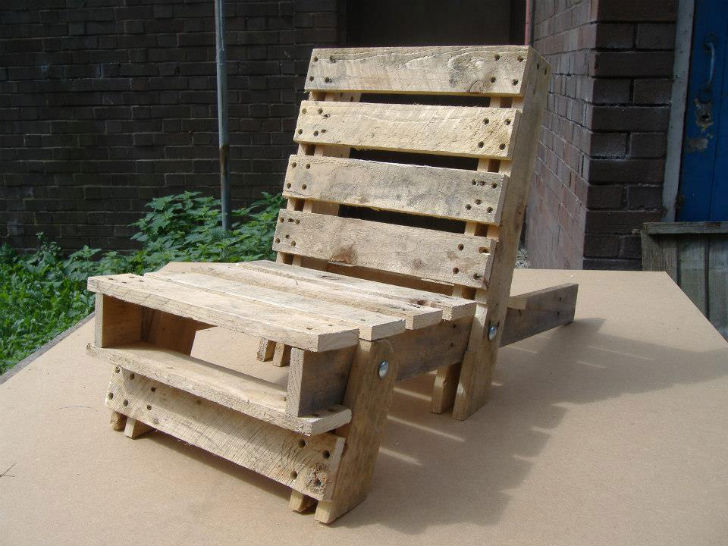chairs: (81, 39, 541, 519)
